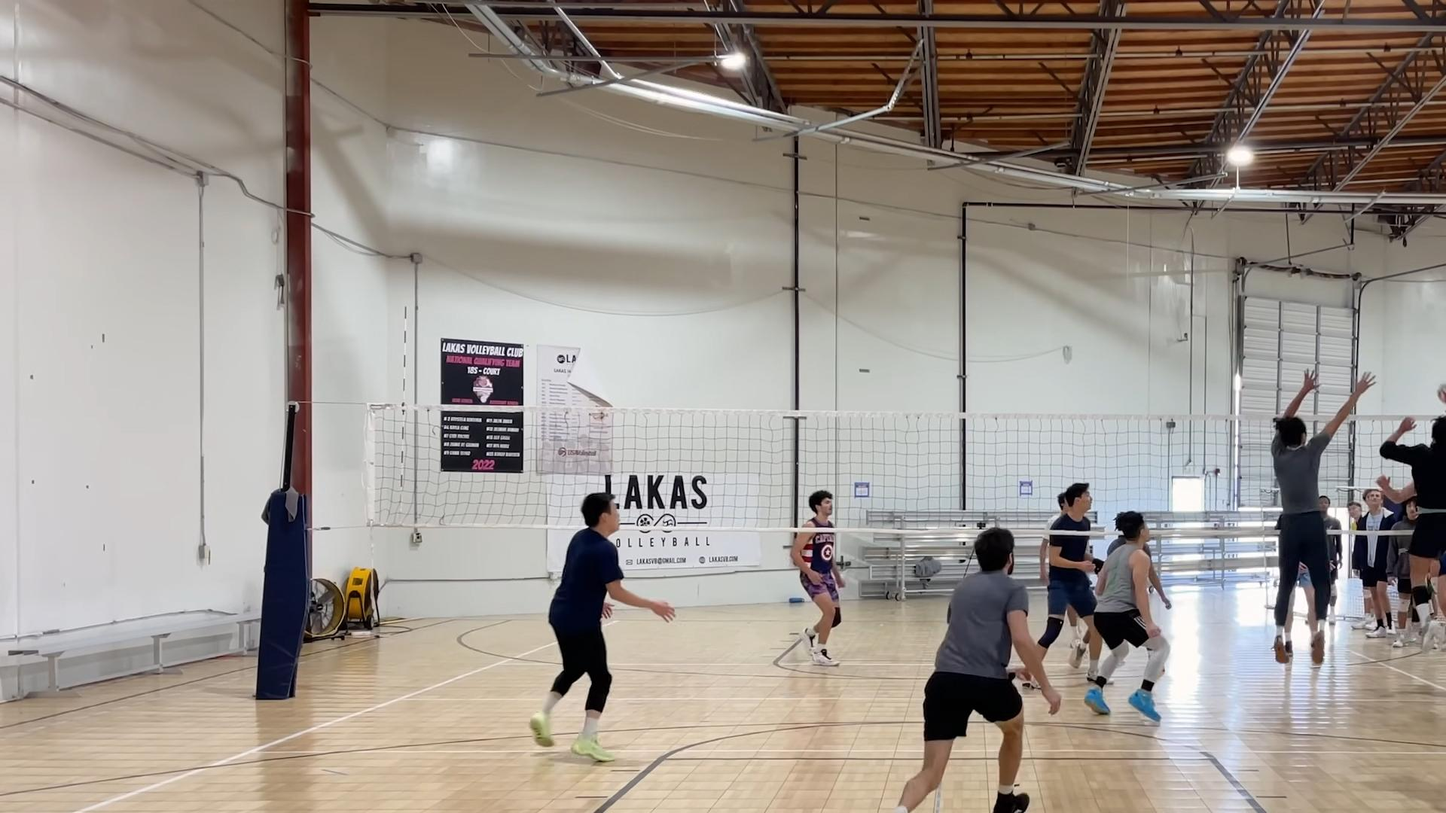muro: (1263, 358, 1377, 666)
